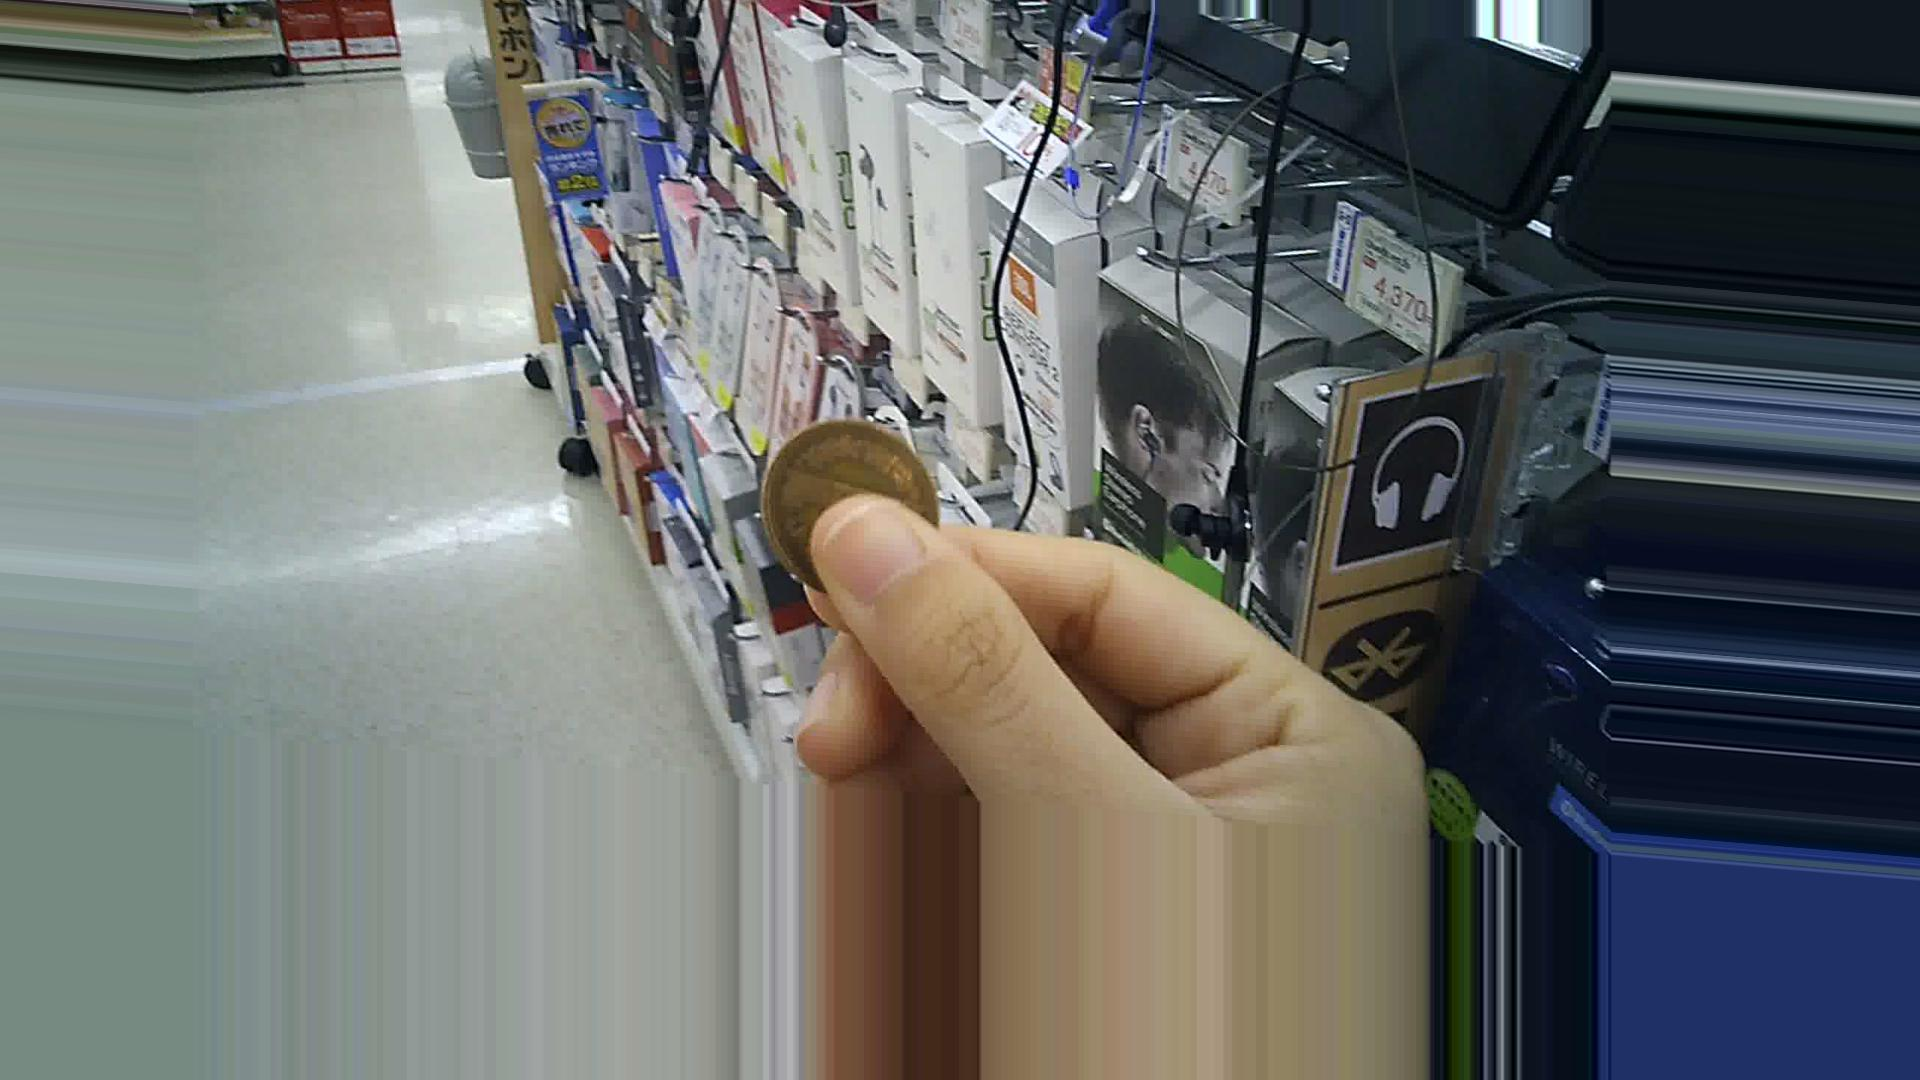10 Yen: (753, 418, 955, 568)
